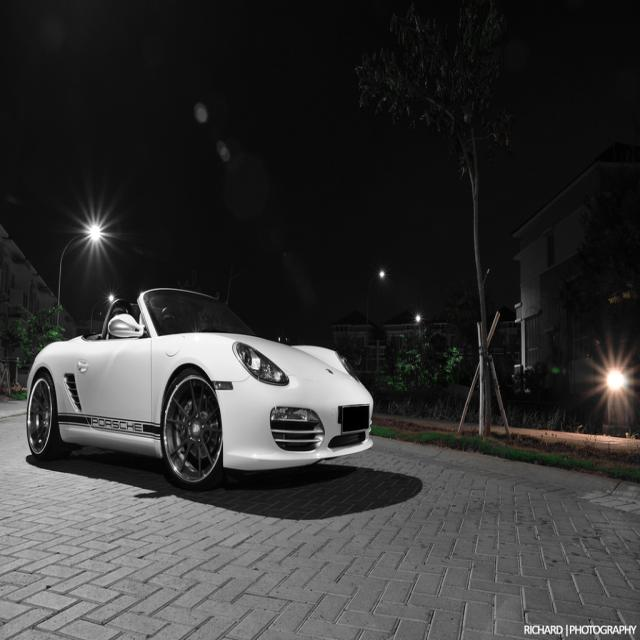car: (13, 278, 377, 485)
